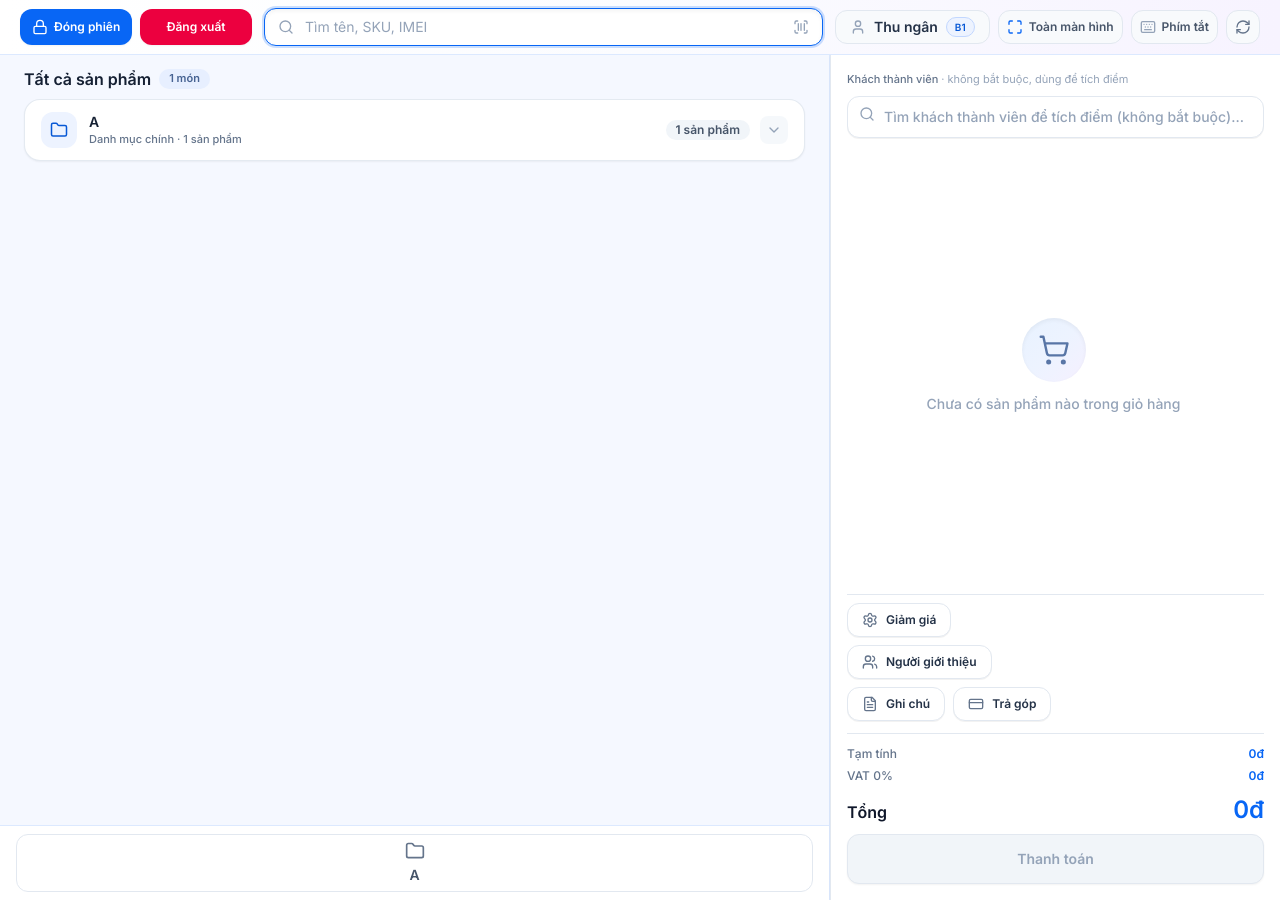
Test: RetailPosPage › opens POS without requesting or opening a sales shift
The image size is (1280, 900).
Click the button "A Danh mục chính · 1 sản phẩm 1 sản phẩm".
click(59, 130)  # box [25,100,804,160]
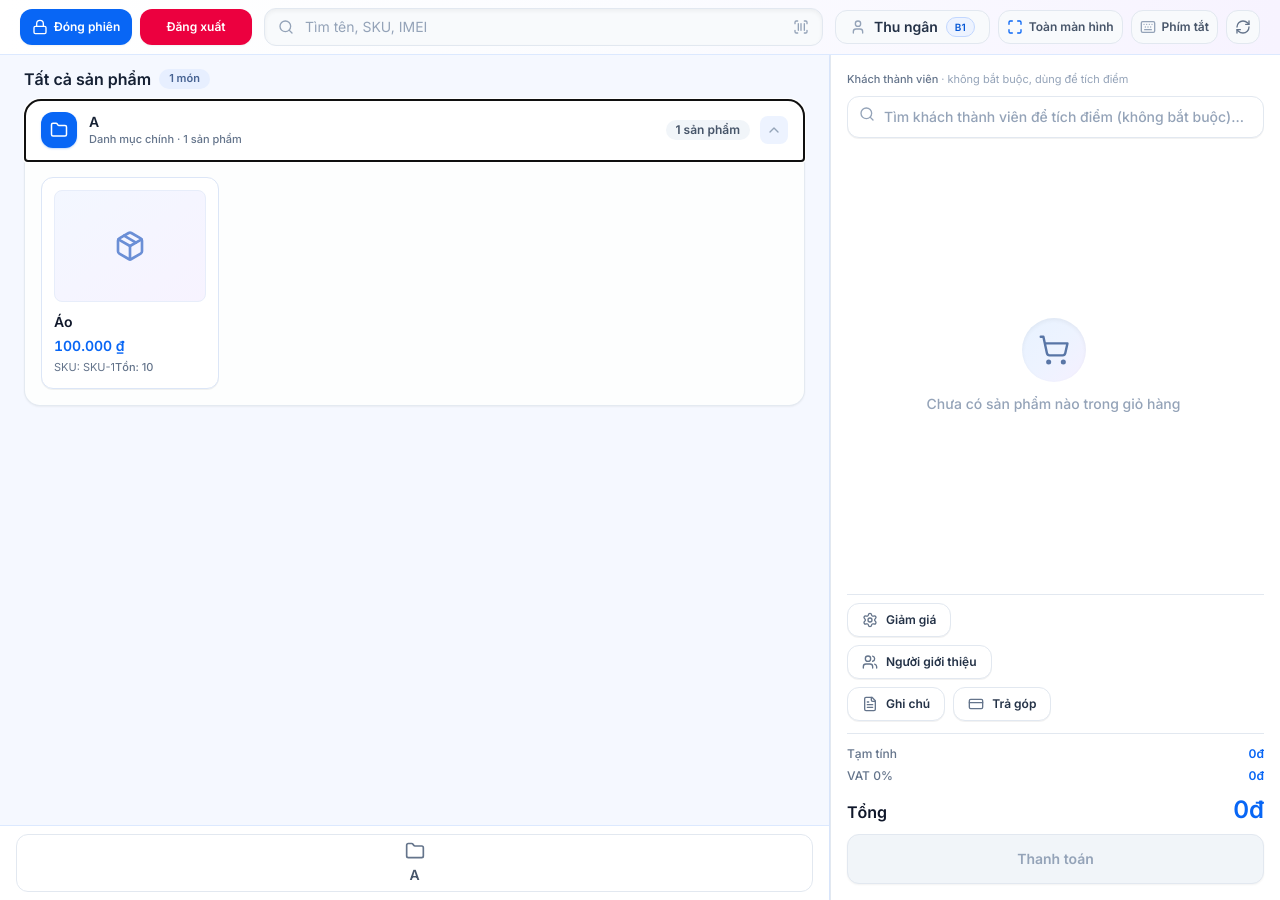
Now the button "Áo 100.000 ₫ SKU: SKU-1 Tồn: 10" is shown, box [54,190,206,376]
